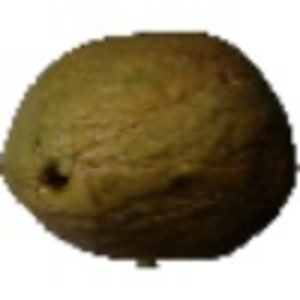mamão: (3, 28, 295, 258)
